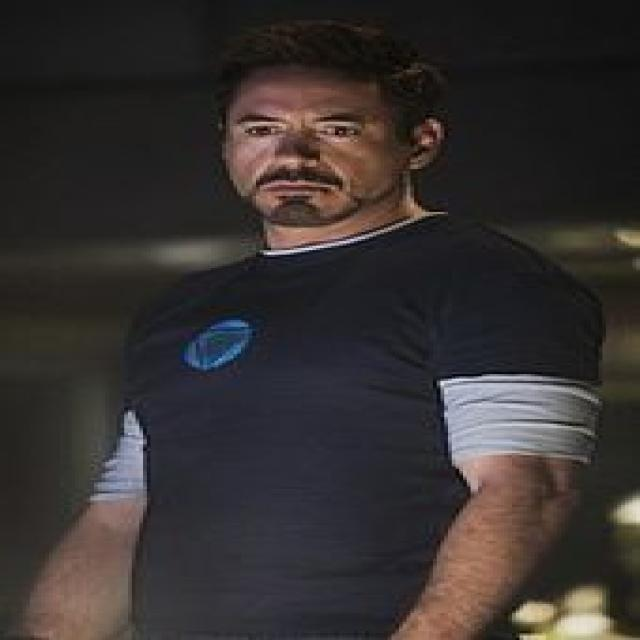human: (17, 13, 614, 640)
